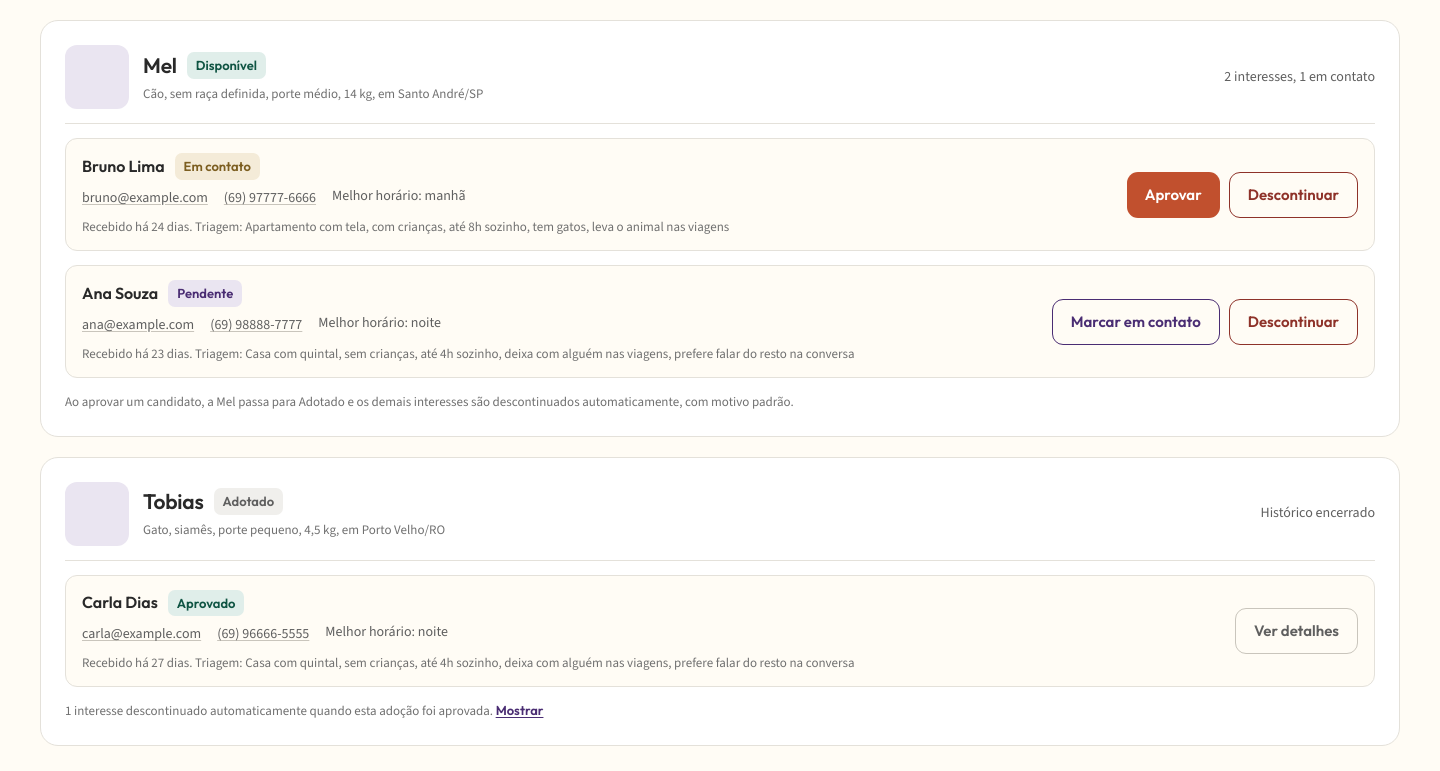
Scenario: lista › ver detalhes abre a triagem completa
The width and height of the screenshot is (1440, 771).
(page scrolled)
Check: the heading "Ana Souza" is shown, box [82,283,158,304]
Click the button "Ver detalhes" at (1297, 631), box [1235,608,1358,654]
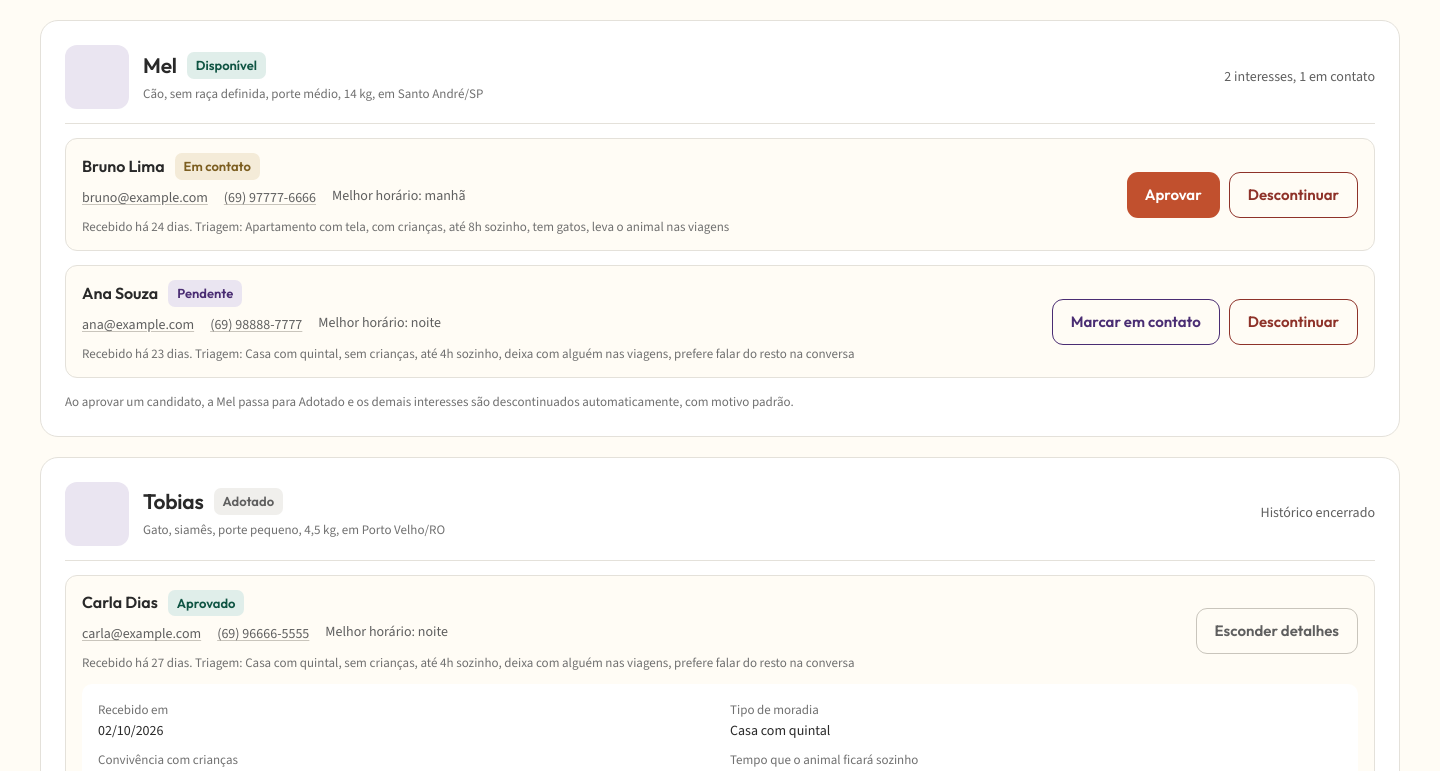
Check: the text "02/10/2026" is shown, box [98,721,164,740]
Check: the text "Tipo de moradia" is shown, box [730,701,819,718]
Check: the button "Esconder detalhes" is expanded, box [1196,608,1358,654]
